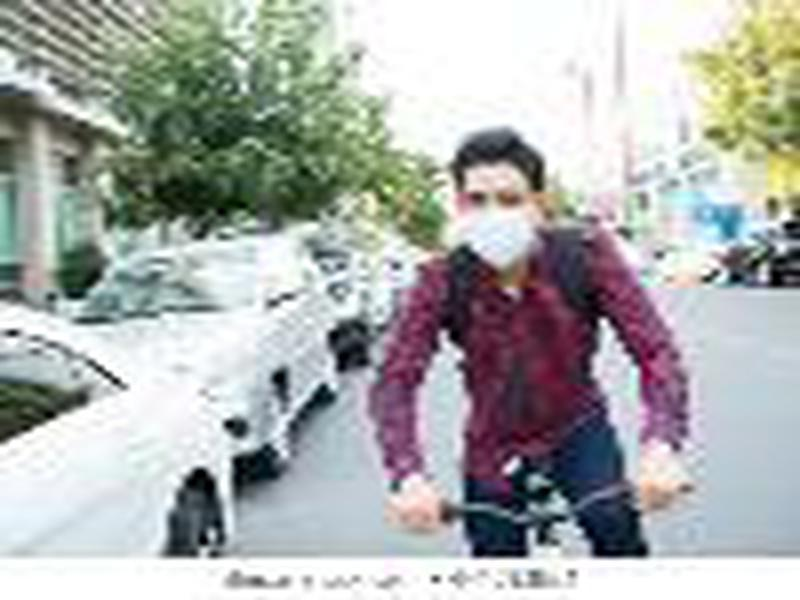with_mask: (447, 131, 548, 267)
